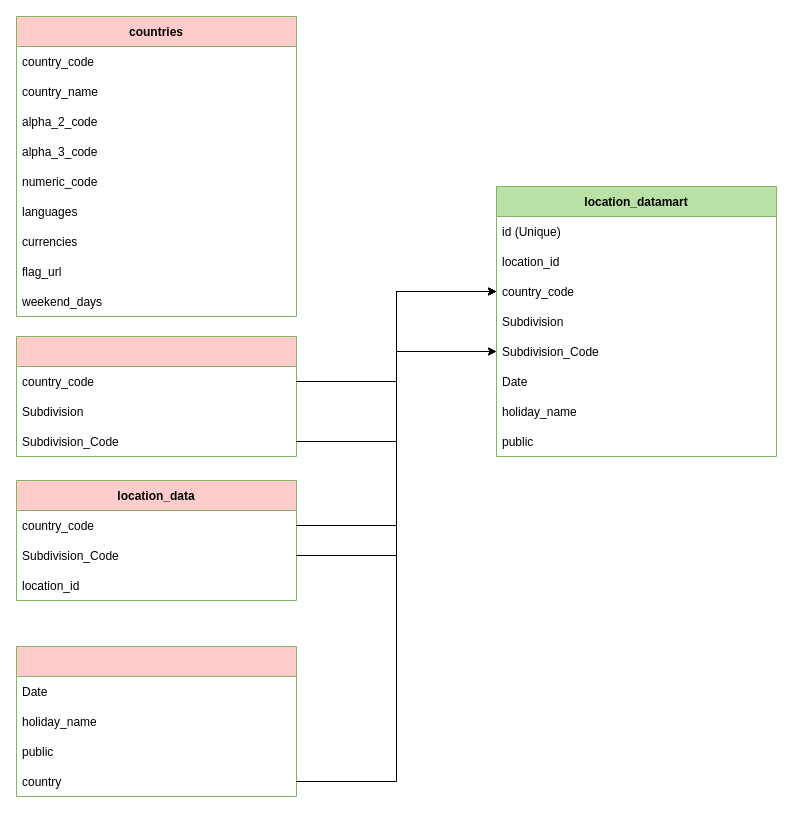
Some shapes in this 793 by 813 pixel diagram are drawn without their labels. The shapes that lost their labels are listed below. From the top down, each one's box as (x1, y1, x2, y2) in pixels, then its label:
(16, 336, 296, 456): subdivisons
(16, 646, 296, 796): holiday_2024
